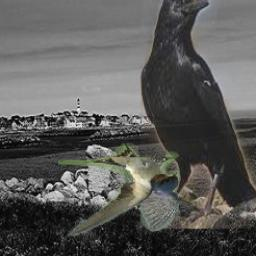Crow: (140, 0, 256, 229)
Swallow: (58, 143, 179, 237)
